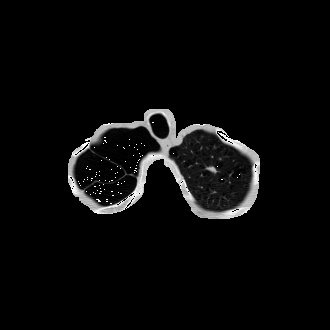PN: (208, 165, 216, 173)
